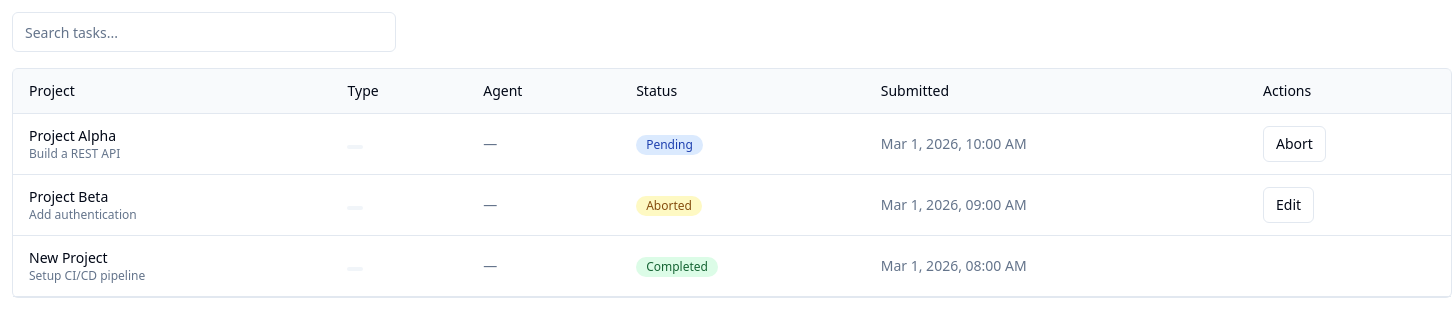
Test: TaskTable › shows empty state when search matches nothing
Type "xyznonexistent" into the field with placeholder "Search tasks...".
click(204, 32); type("xyznonexistent")  # box [12,12,396,52]
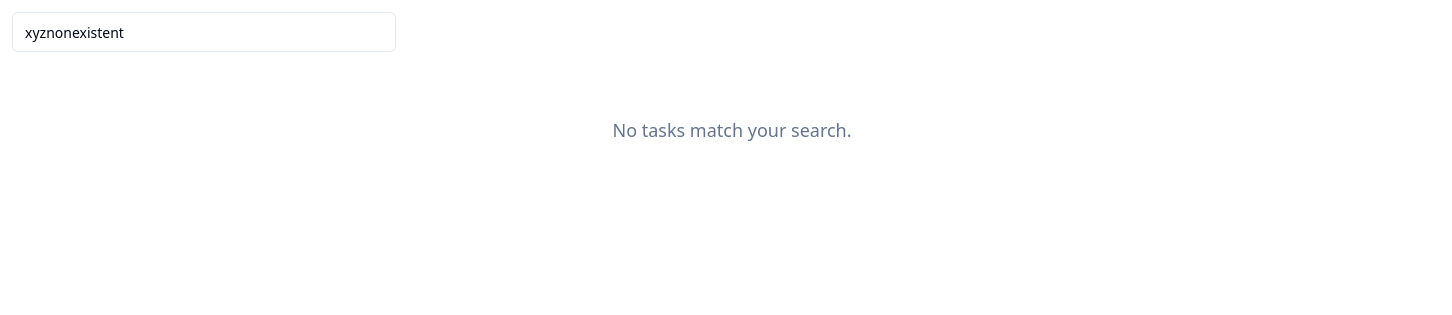
Now the text "No tasks match your search." is shown, box [612,116,852,144]
